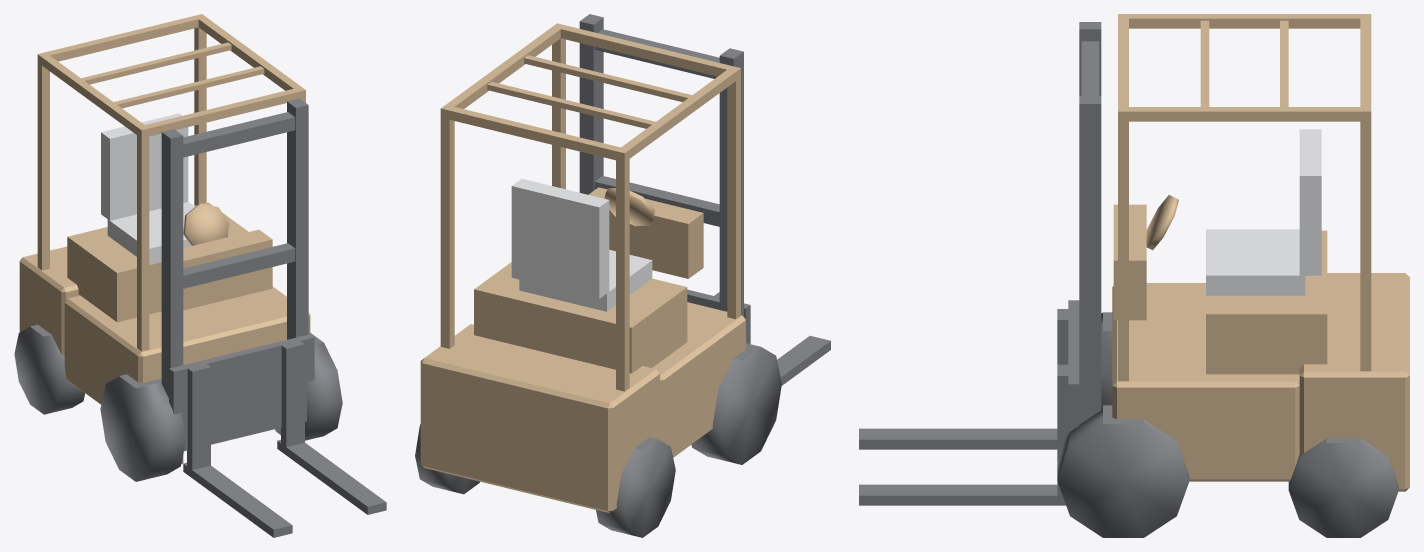
The model's file is forklift.glb.
3 views of the same model, side by side, from view 1: azimuth 30°, elevation 25°; view 2: azimuth 150°, elevation 25°; view 3: azimuth 270°, elevation 25° (orthographic). The views are drawn at different scales.
Parts seen in each view (by area): view 1: forklift; view 2: forklift; view 3: forklift.
Boxes of the visible parts, x1,y1,x2,y2 form: forklift: (14,14,386,537); forklift: (415,14,830,537); forklift: (859,14,1409,537).
Size of the model in its own units: 1.2 by 2.1 by 2.5.
